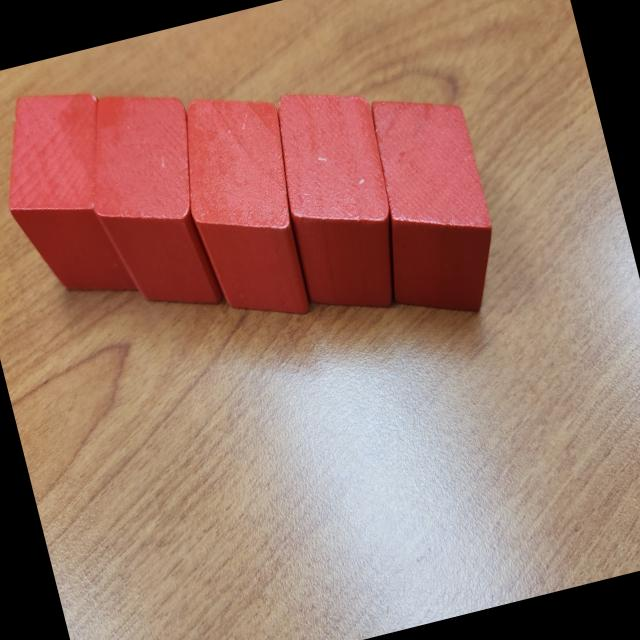red: (164, 78, 328, 336), (345, 80, 511, 332), (67, 78, 233, 328), (257, 74, 418, 326), (0, 79, 148, 318)
